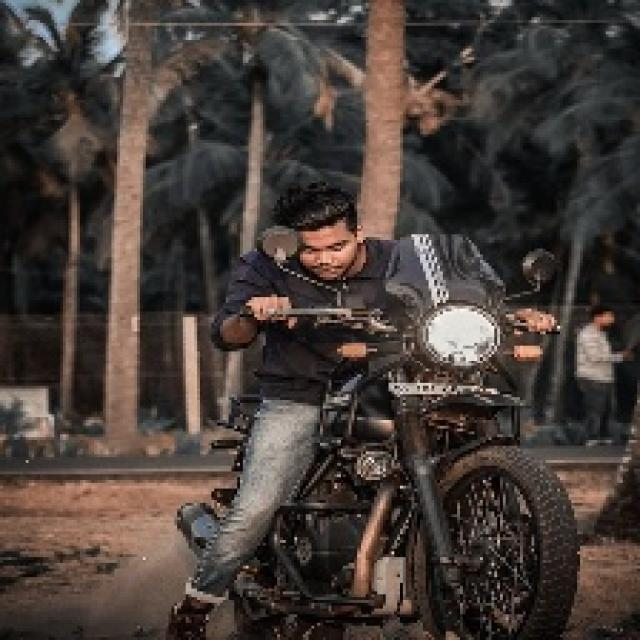bike: (307, 298, 615, 640)
